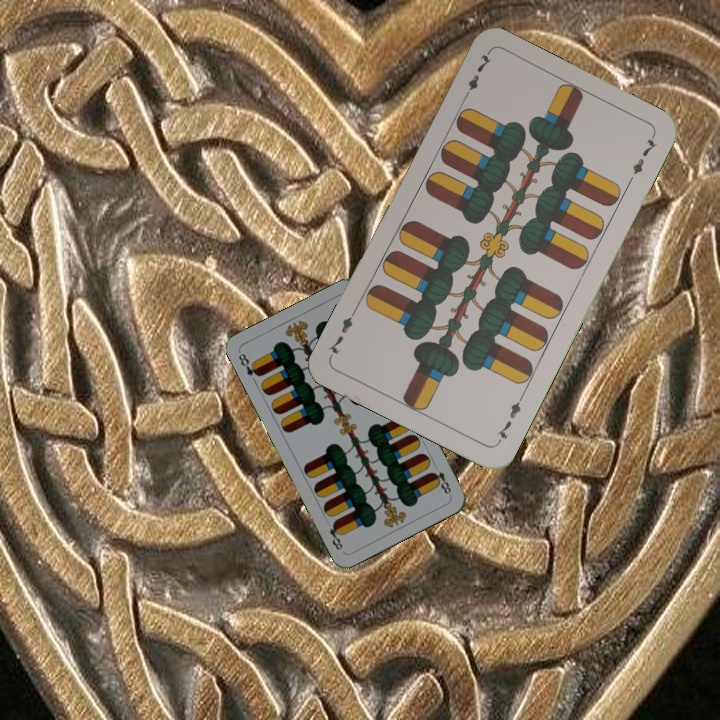E7: (458, 49, 495, 103), (493, 391, 526, 446)
E8: (234, 349, 263, 379), (427, 467, 454, 498)
